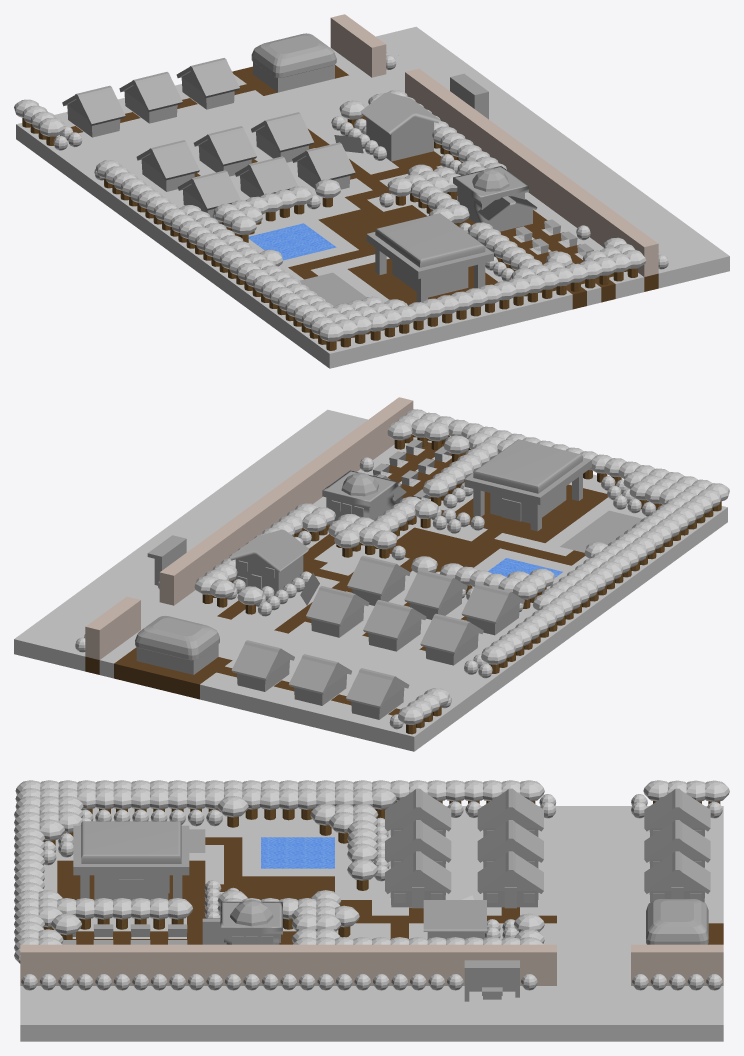
The model's file is city_test.fbx.
3 views of the same model, one above another, from view 1: azimuth 30°, elevation 25°; view 2: azimuth 150°, elevation 25°; view 3: azimuth 270°, elevation 25° (orthographic). The views are drawn at different scales.
Parts seen in each view (by area): view 1: tree92; view 2: tree92; view 3: tree92.
Boxes of the visible parts, bbox=[...] form: tree92: bbox=[14, 14, 729, 368]; tree92: bbox=[14, 397, 729, 751]; tree92: bbox=[14, 780, 729, 1041].
Bounding box in the file's own units: 1419 × 200 × 1934.
